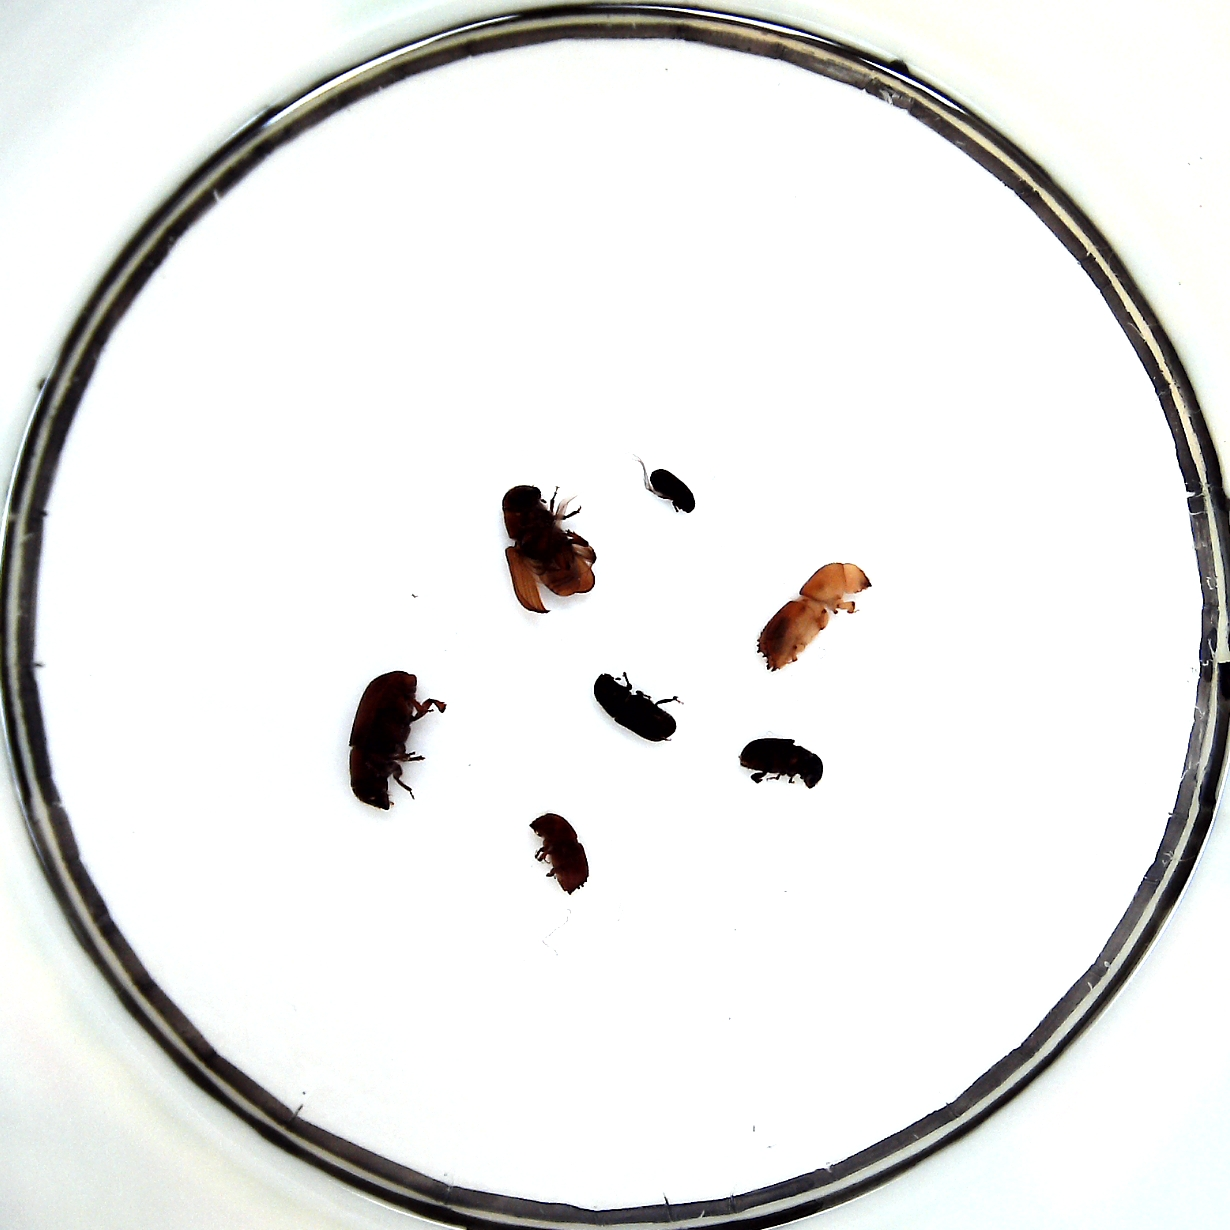Boerner: (757, 563, 872, 671)
Leconte: (503, 485, 595, 613), (348, 671, 418, 811)
armandi: (594, 672, 677, 743), (739, 737, 823, 790)
coleoptera: (649, 469, 696, 512)
linnaeus: (529, 812, 589, 895)
